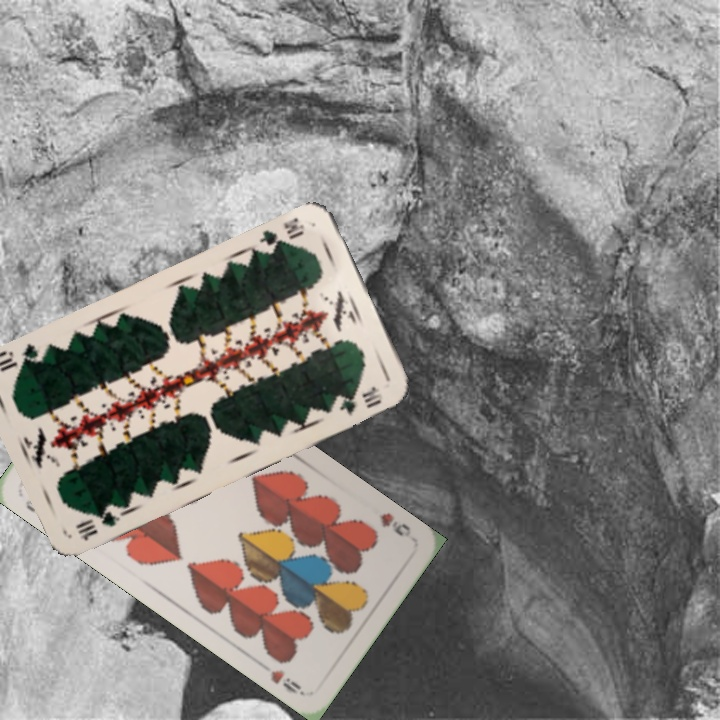G10: (254, 213, 307, 253), (71, 507, 127, 544)
H9: (374, 508, 414, 540)
